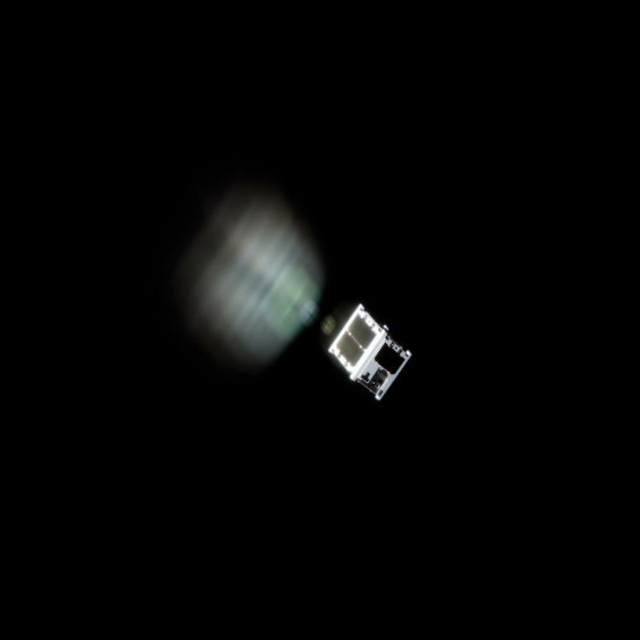satellite: (322, 303, 409, 411)
